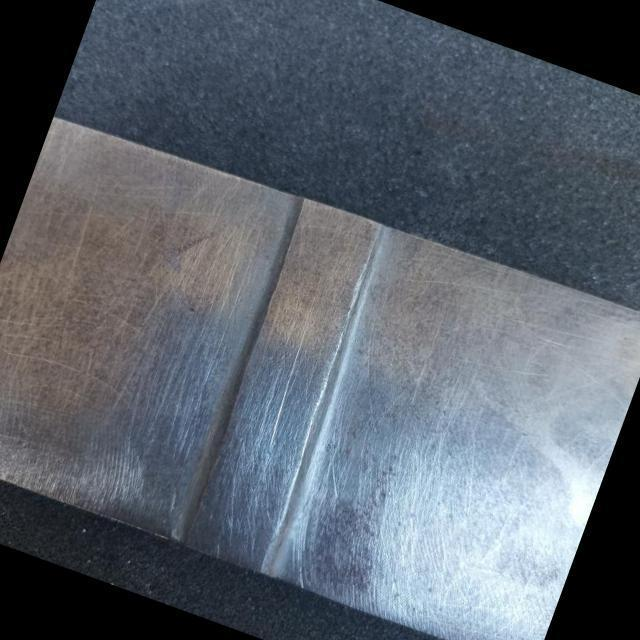defect: (269, 321, 311, 449)
